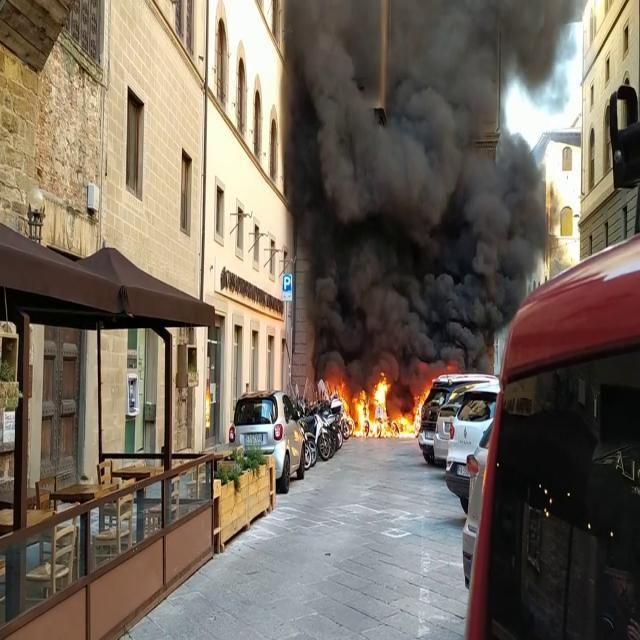Fire: (341, 370, 424, 440)
Smoke: (271, 0, 566, 356)
